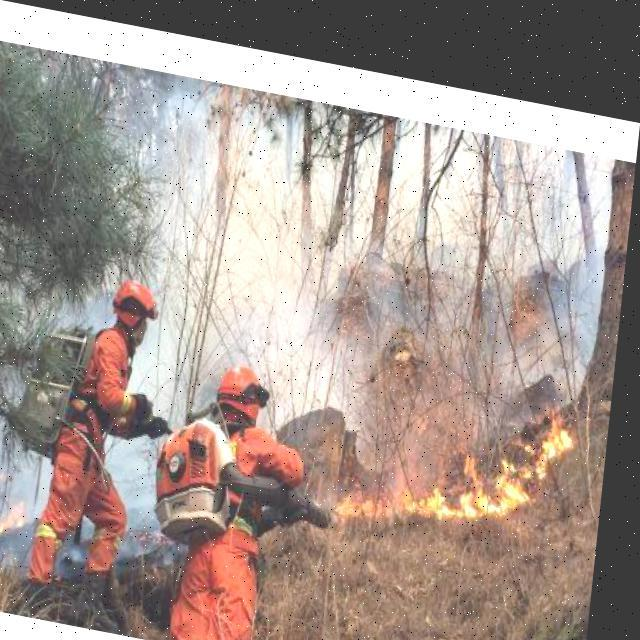Fire: (330, 362, 584, 536)
